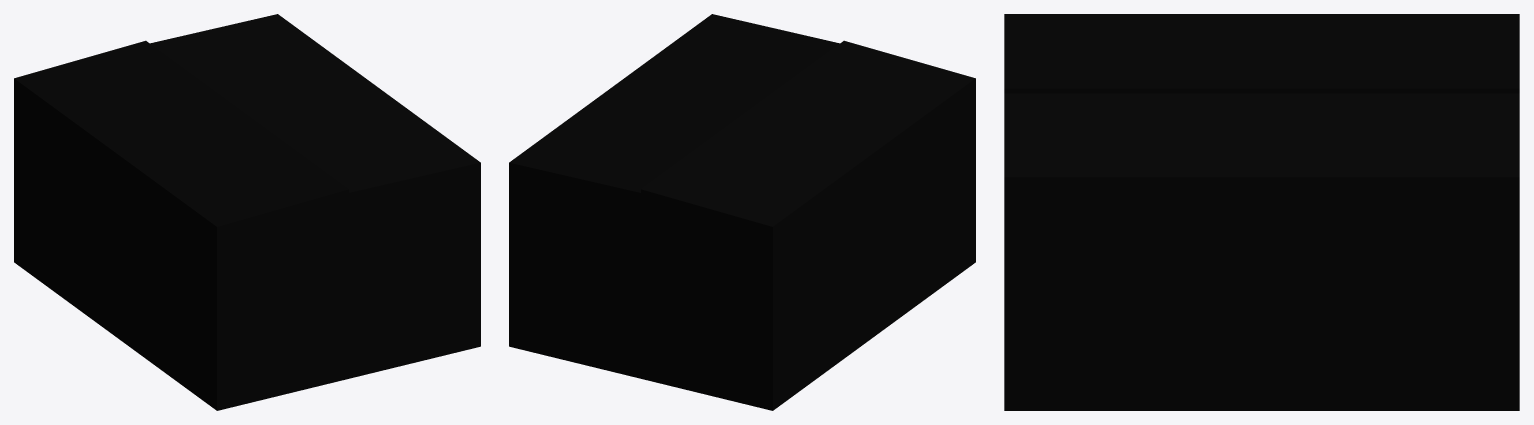
3 views of the same model, side by side, from view 1: azimuth 30°, elevation 25°; view 2: azimuth 150°, elevation 25°; view 3: azimuth 270°, elevation 25° (orthographic). The views are drawn at different scales.
Parts seen in each view (by area): view 1: Joint_0_Object_0; view 2: Joint_0_Object_0; view 3: Joint_0_Object_0.
Boxes of the visible parts, x1,y1,x2,y2 form: Joint_0_Object_0: (14,14,480,410); Joint_0_Object_0: (509,14,975,410); Joint_0_Object_0: (1004,14,1519,410).
Bounding box in the file's own units: 750 × 515 × 1000.
Materials: 1 (1 with a texture image).
